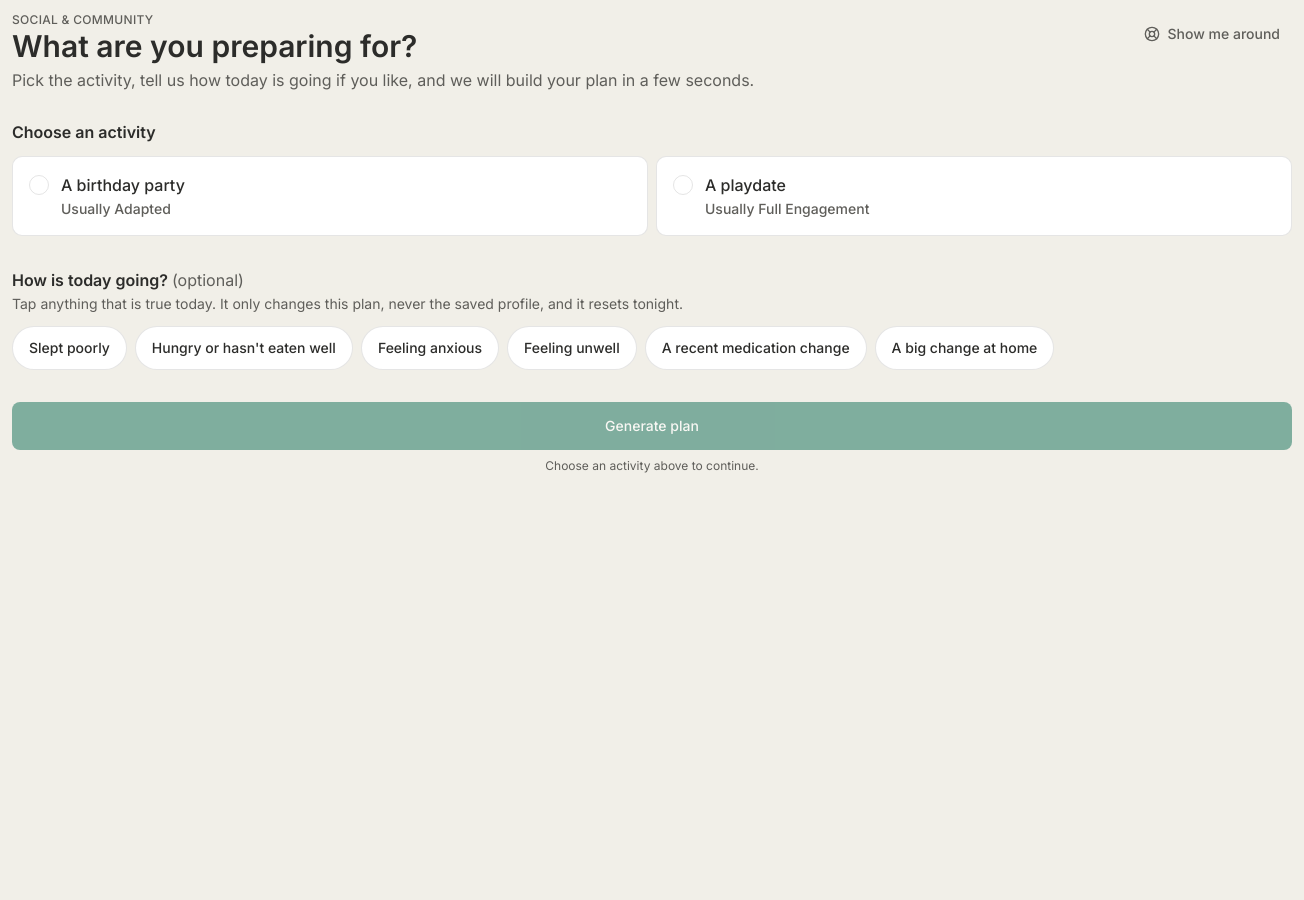
Scenario: PlanScreen prepare flow › picks an activity + a today flag, generates, and renders the returned plan
Check: the text "A birthday party" is shown, box [61,173,185,197]
# Pick the activity and a warm "today" flag.
Step 1. Click the button "A birthday party Usually Adapted" → (123, 185), box [12,156,648,236]
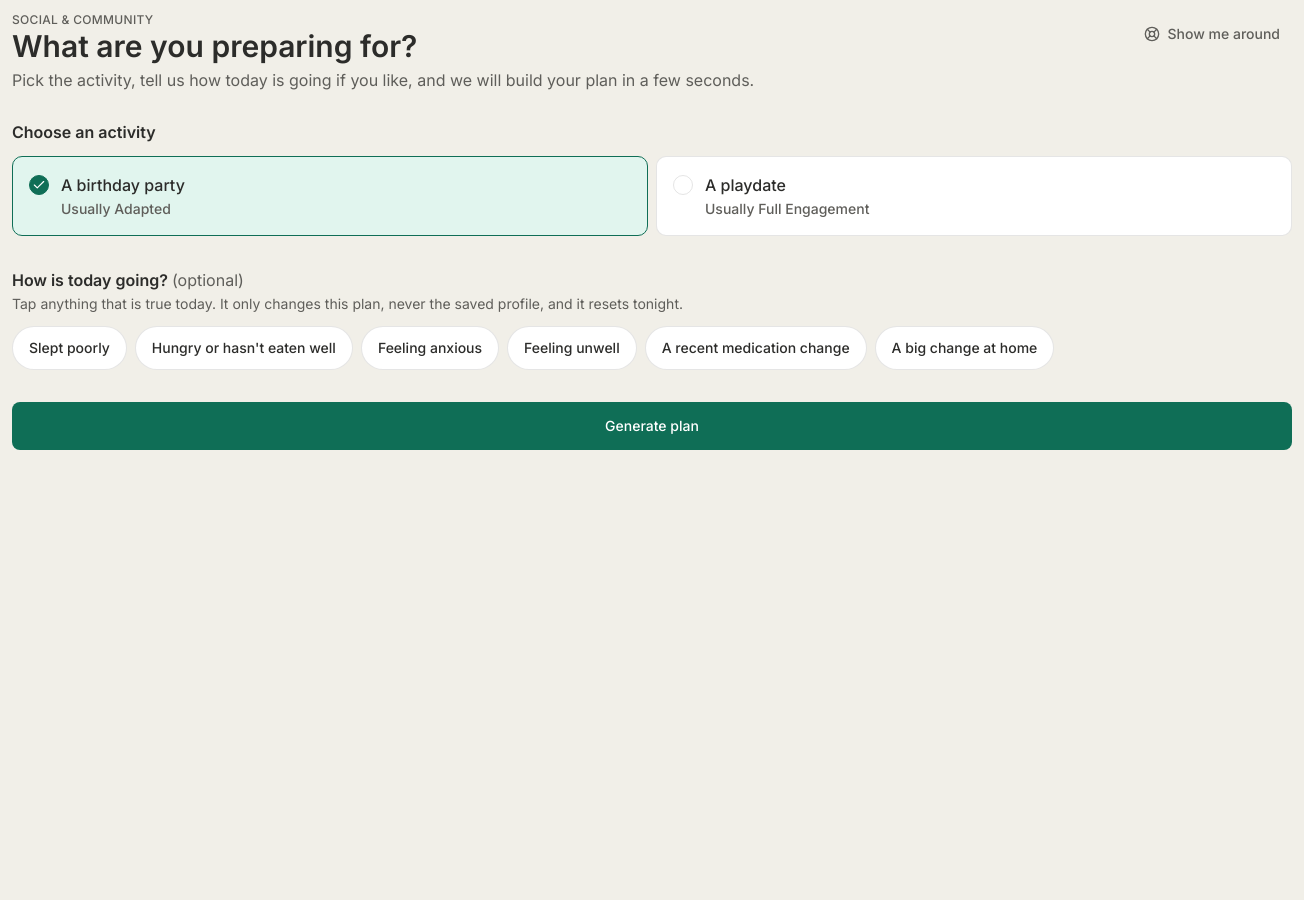
Step 2. Click the button "Feeling anxious" → (430, 348), box [361,326,499,370]
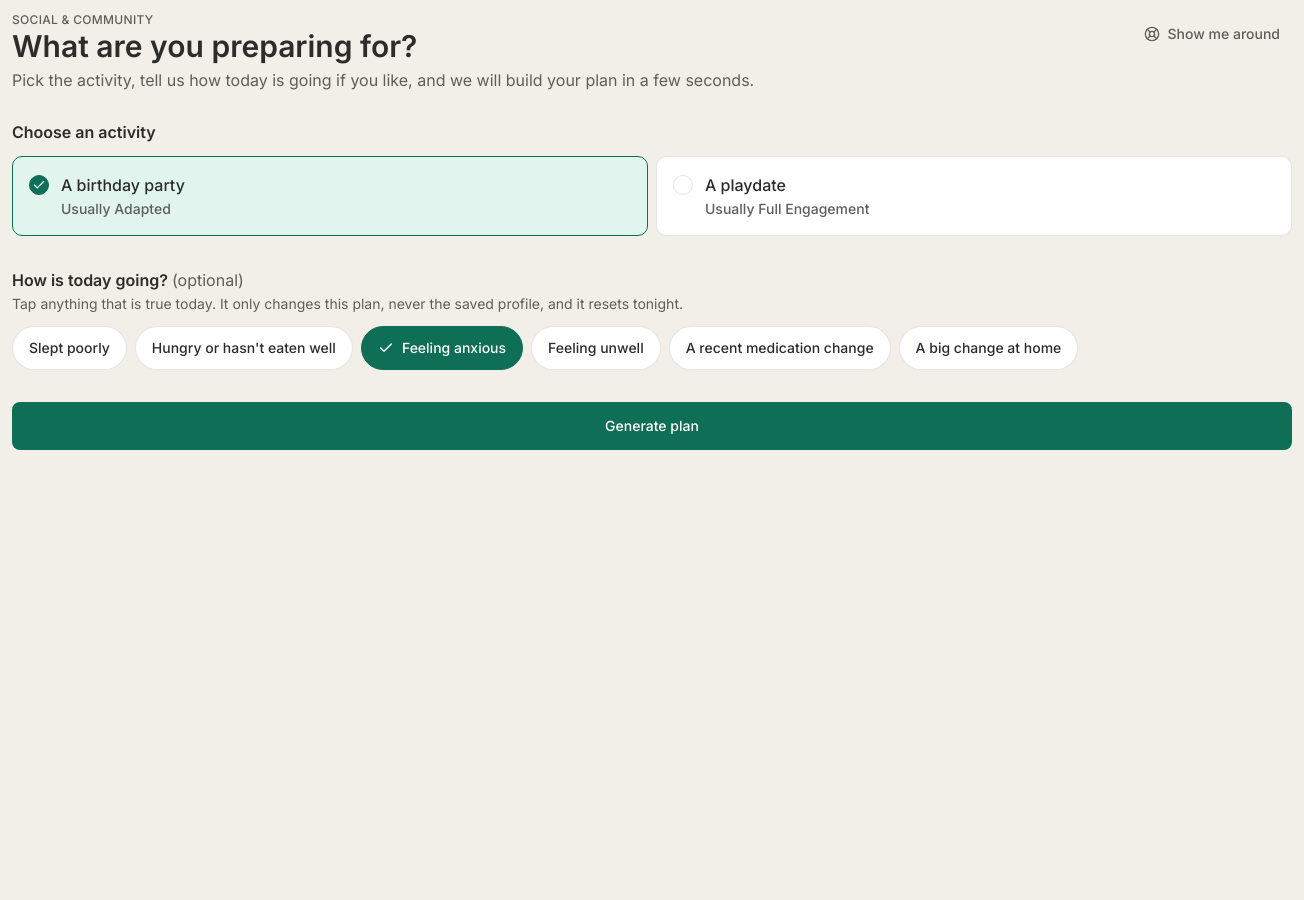
Check: the button "Generate plan" is enabled
Step 3. Click the button "Generate plan" → (652, 426), box [12,402,1292,450]
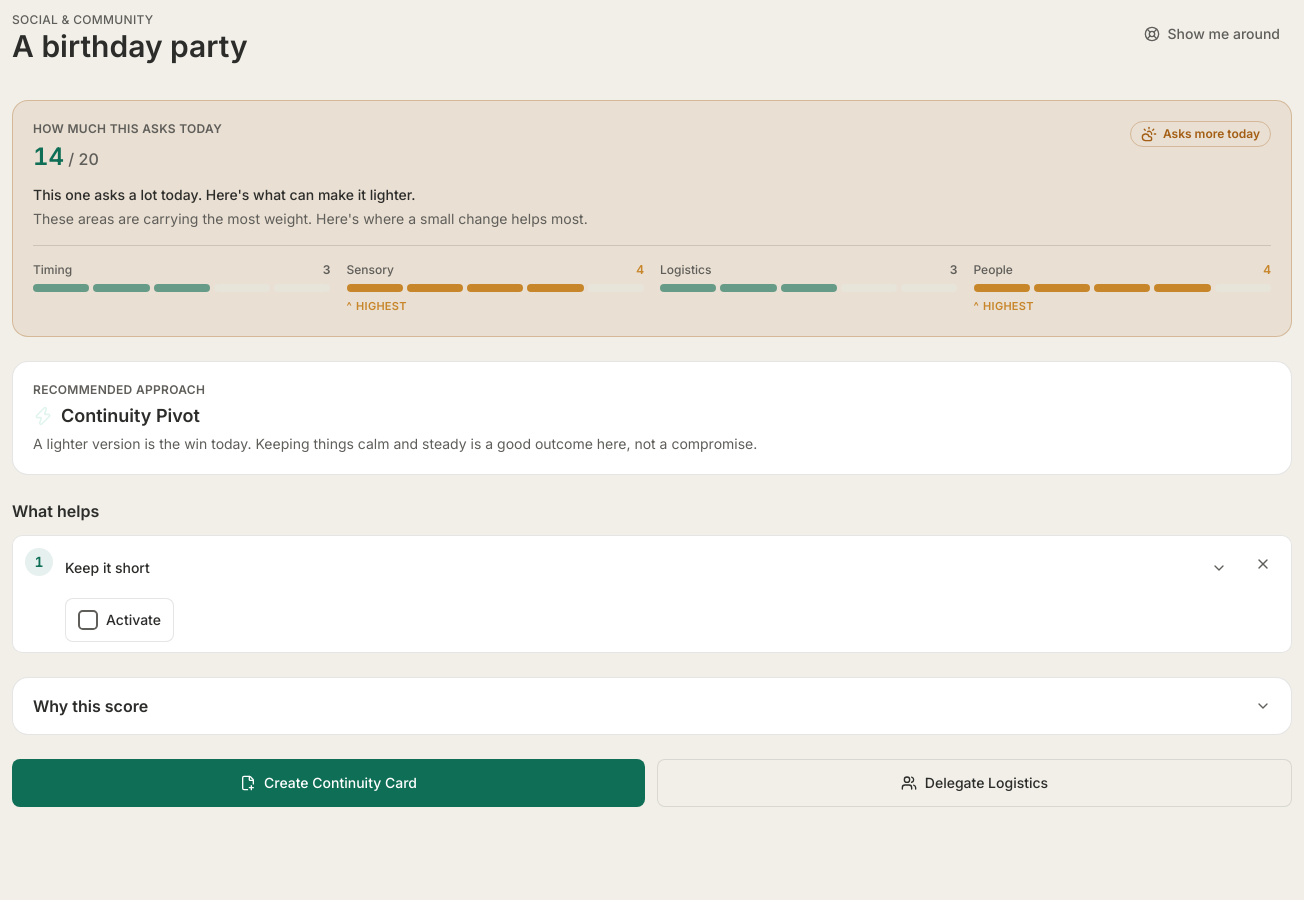
Check: the text "This one asks a lot today. Here's what can make it lighter." is shown, box [33,186,416,203]
Check: the heading "Continuity Pivot" is shown, box [61,402,200,430]
Check: the text "Keep it short" is shown, box [65,558,150,578]
